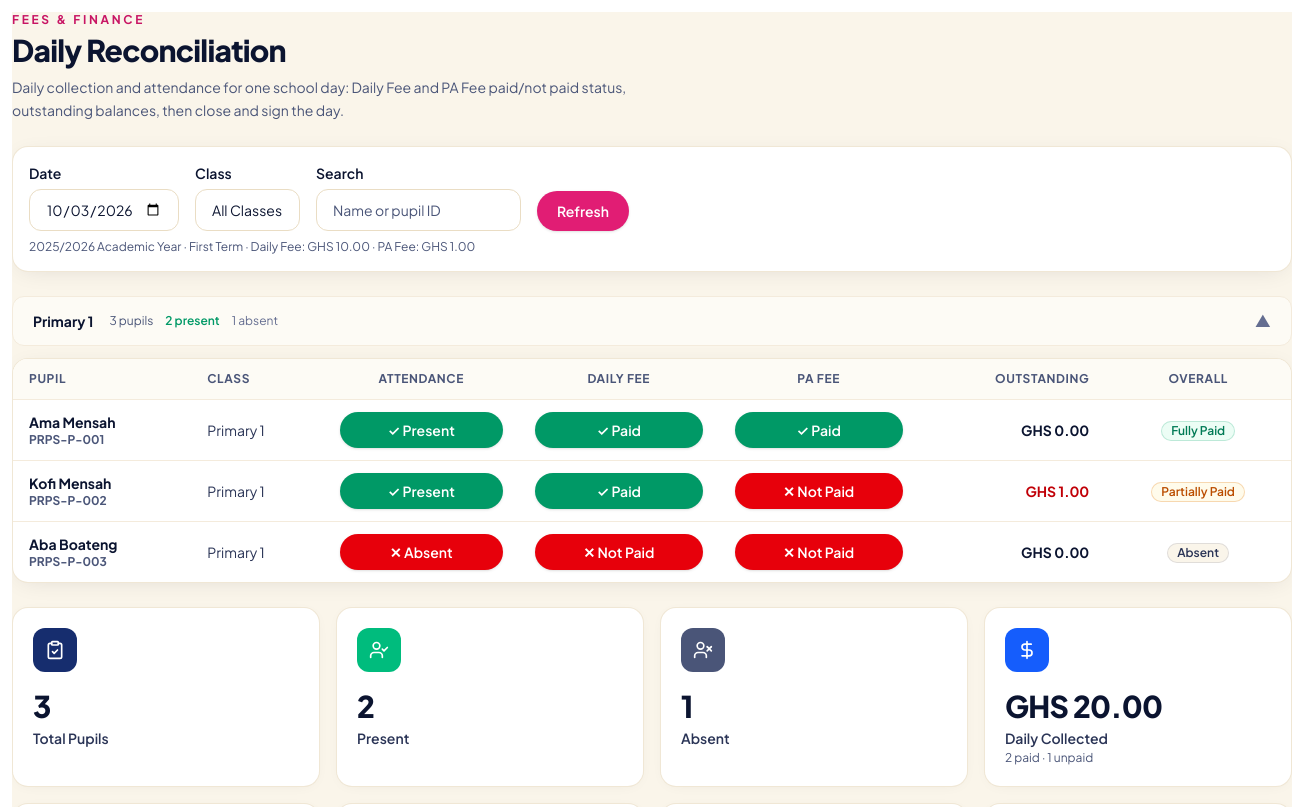
Test: ReconciliationPage › keeps the prior attendance state and surfaces an error when the toggle fails
Click the button with aria-label "Mark Ama Mensah absent" at (421,430), box [340, 412, 503, 448]
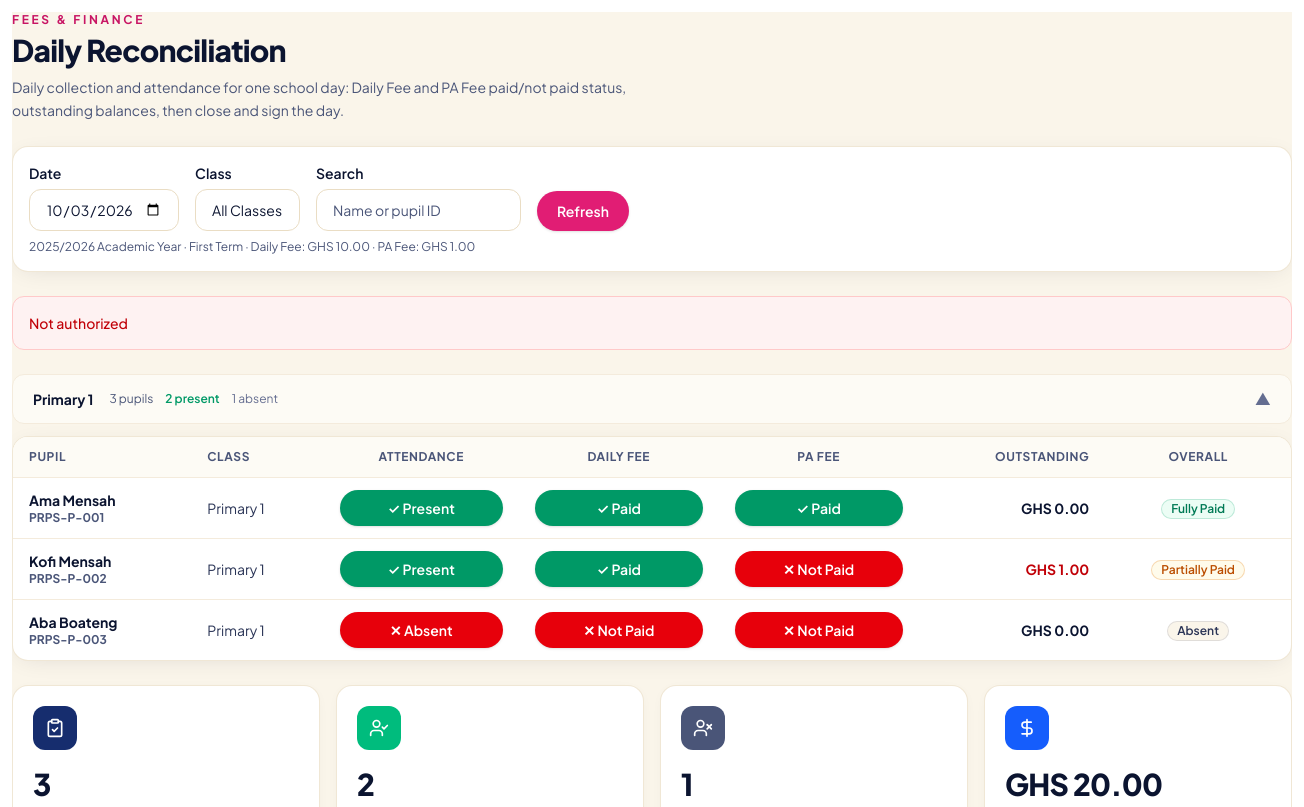
Expected: the text "Not authorized" is shown, [12, 296, 1292, 350]
